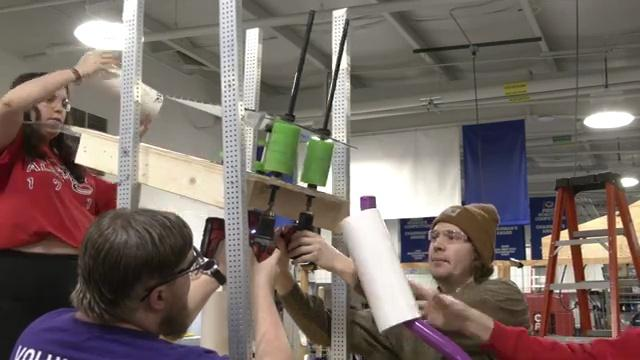CORAL: (339, 208, 421, 332)
